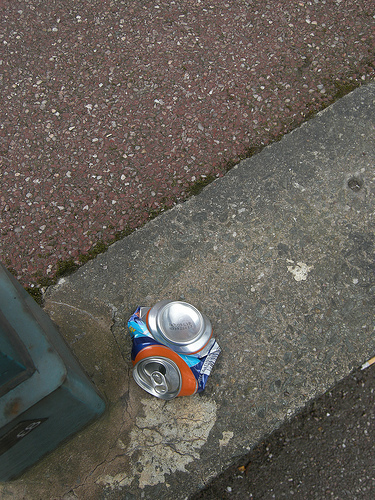litter: (127, 300, 219, 400)
